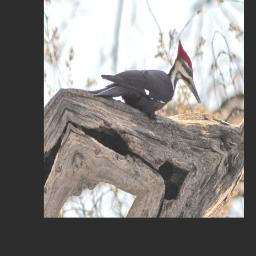Woodpecker: (87, 33, 202, 151)
